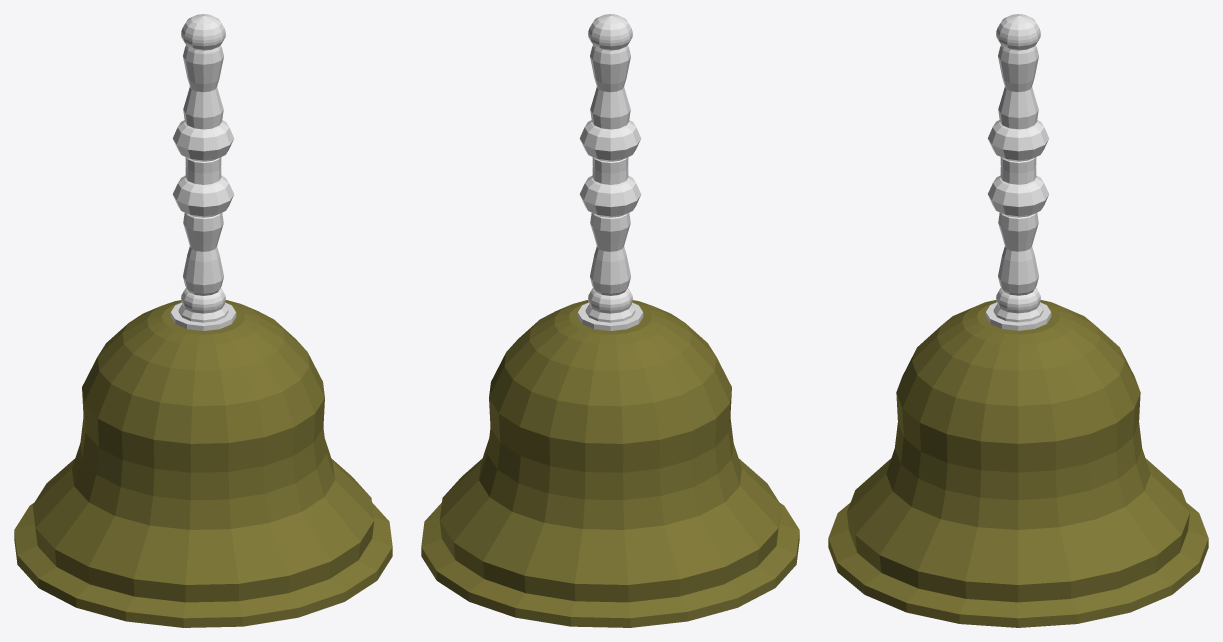
The model's file is CAMPANA.fbx.
The picture shows the model from 3 angles, left to right: view 1: azimuth 30°, elevation 25°; view 2: azimuth 150°, elevation 25°; view 3: azimuth 270°, elevation 25°; orthographic projection.
Visible parts, largest first — view 1: Campanita; view 2: Campanita; view 3: Campanita.
Boxes of the visible parts, <box> form: Campanita: <box>14,14,392,627</box>; Campanita: <box>421,14,799,627</box>; Campanita: <box>828,14,1208,627</box>.
Bounding box in the file's own units: 1.57 × 2.43 × 1.57.
